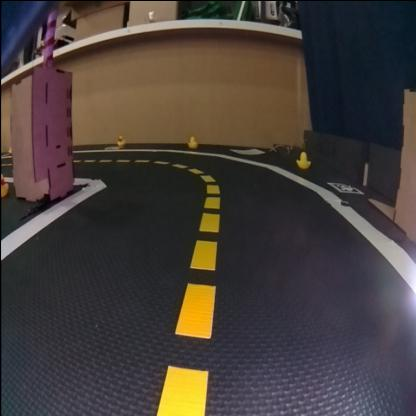Duckie: (297, 152, 311, 168), (1, 172, 8, 194), (188, 136, 198, 148), (116, 134, 126, 144)
QR code: (328, 182, 362, 192)
